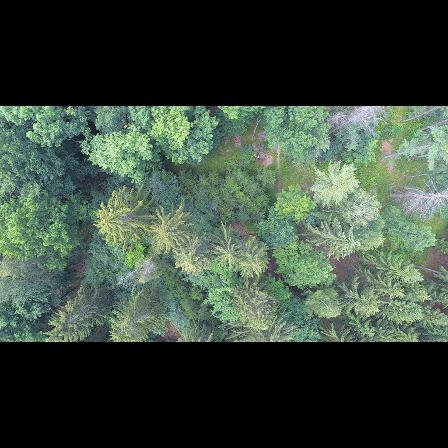Dead: (381, 177, 448, 222), (320, 106, 392, 145), (113, 254, 160, 288)
